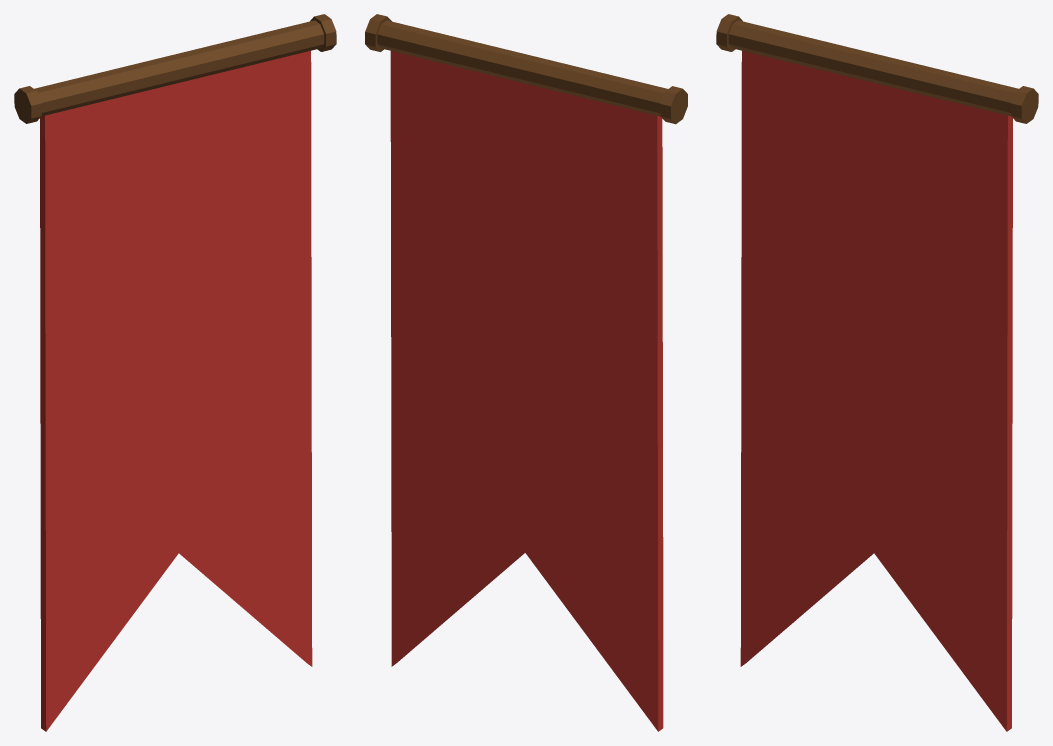
Rendered from Banner_1.fbx.
3 views of the same model, side by side, from view 1: azimuth 30°, elevation 25°; view 2: azimuth 150°, elevation 25°; view 3: azimuth 330°, elevation 25° (orthographic).
Parts seen in each view (by area): view 1: bannière_1; view 2: bannière_1; view 3: bannière_1.
Part boxes in pixels (x1,y1,x2,y2): bannière_1: [14, 14, 336, 731]; bannière_1: [365, 14, 687, 731]; bannière_1: [716, 14, 1038, 731].
Size of the model in its own units: 120 by 241 by 11.49.
